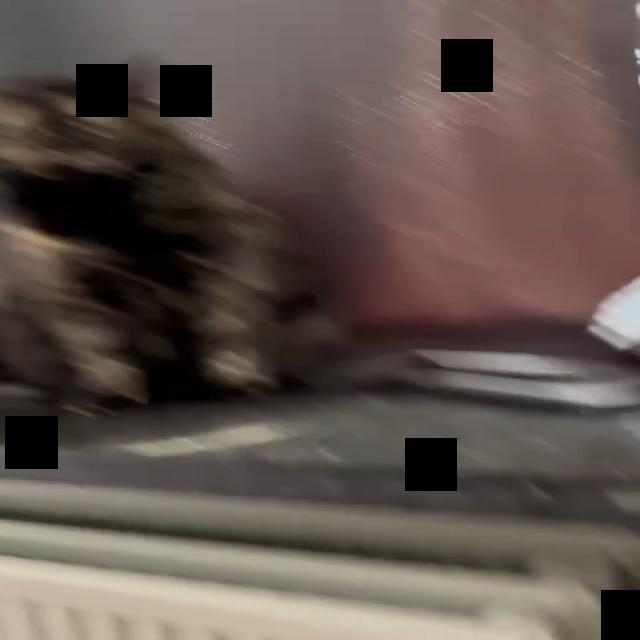authorized: (0, 73, 351, 417)
